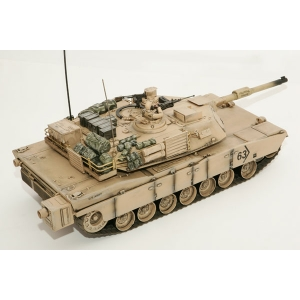Battle Tank: (10, 79, 287, 237)
